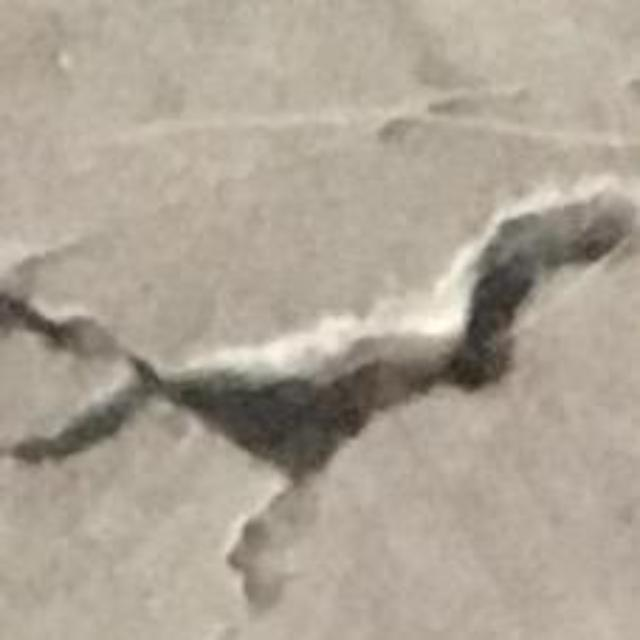crack: (0, 187, 639, 606)
